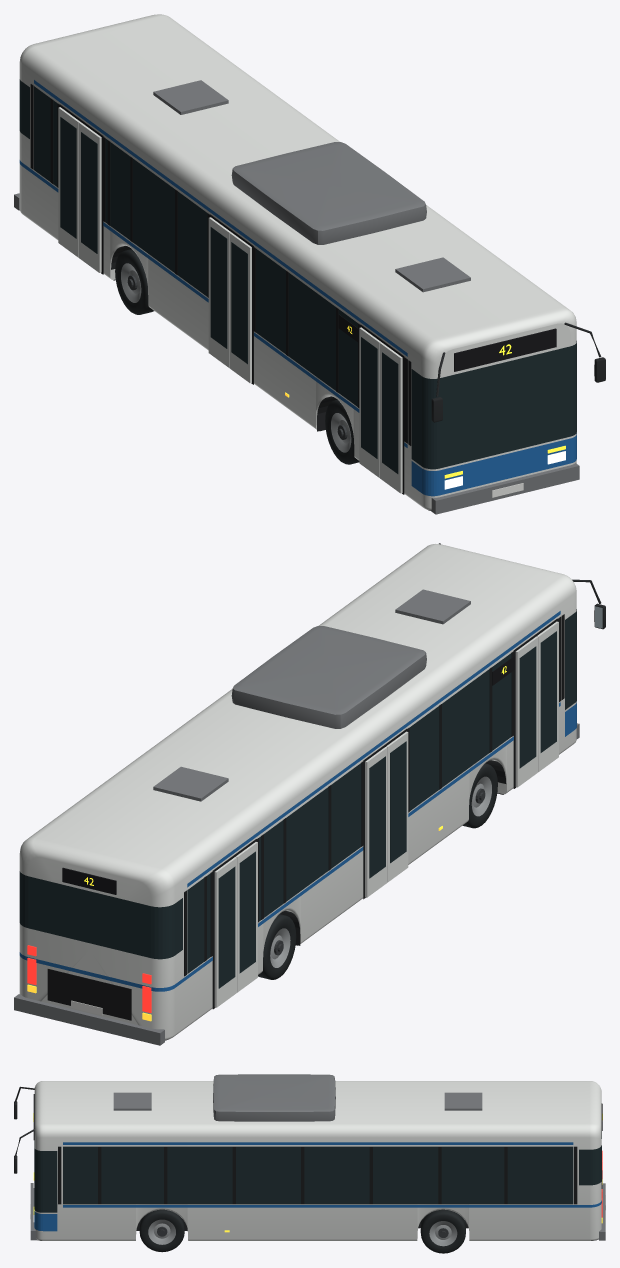
File: PT_Bus_City12.glb
3 renders of one model, top to bottom at view 1: azimuth 30°, elevation 25°; view 2: azimuth 150°, elevation 25°; view 3: azimuth 270°, elevation 25°, orthographic. The views are drawn at different scales.
Parts seen in each view (by area): view 1: Body, Glass_Side, Glass_Windscreen, Roof_AC, Livery_Face, Pillar_R, Roof_Hatches, Bumper_Front, Door_2_B_Glass, Display_Front, Door_2_A_Glass, Door_1_B_Glass (+13 smaller); view 2: Body, Glass_Side, Roof_AC, Glass_Rear, Pillar_R, Roof_Hatches, EngineGrille, Bumper_Rear, Door_1_B_Glass, Door_3_B_Glass, Door_2_A_Glass, Door_2_B_Glass (+14 smaller); view 3: Body, Glass_Side, Roof_AC, Pillar_L, Livery_Stripe, Livery_Roofline, Glass_Windscreen, Roof_Hatches, Wheel_RL_Tyre, Wheel_FL_Tyre, Glass_Rear, Wheel_FL_Rim (+4 smaller).
Part boxes in pixels (box(x1,y1,x2,y2)): Body: box(19, 14, 576, 510); Glass_Side: box(34, 86, 357, 406); Glass_Windscreen: box(411, 341, 576, 469); Roof_AC: box(231, 142, 426, 244); Livery_Face: box(411, 433, 576, 496); Pillar_R: box(30, 84, 411, 445); Roof_Hatches: box(153, 80, 470, 292); Bumper_Front: box(431, 463, 579, 514); Door_2_B_Glass: box(210, 227, 227, 348); Display_Front: box(454, 328, 556, 371); Door_2_A_Glass: box(231, 242, 247, 364); Door_1_B_Glass: box(361, 337, 377, 458); Body: box(19, 544, 576, 1040); Glass_Side: box(187, 653, 511, 973); Roof_AC: box(231, 626, 426, 728); Glass_Rear: box(19, 871, 182, 959); Pillar_R: box(184, 614, 564, 976); Roof_Hatches: box(153, 589, 470, 801); EngineGrille: box(47, 969, 131, 1020); Bumper_Rear: box(14, 994, 164, 1045); Door_1_B_Glass: box(519, 646, 536, 768); Door_3_B_Glass: box(218, 866, 235, 988); Door_2_A_Glass: box(390, 741, 406, 863); Door_2_B_Glass: box(369, 756, 385, 878); Body: box(34, 1081, 601, 1240); Glass_Side: box(63, 1146, 573, 1204); Roof_AC: box(213, 1074, 335, 1121); Pillar_L: box(58, 1146, 577, 1204); Livery_Stripe: box(63, 1200, 601, 1207); Livery_Roofline: box(63, 1142, 573, 1144); Glass_Windscreen: box(34, 1140, 57, 1212); Roof_Hatches: box(113, 1092, 482, 1110); Wheel_RL_Tyre: box(420, 1209, 465, 1253); Wheel_FL_Tyre: box(139, 1209, 184, 1252); Glass_Rear: box(579, 1131, 601, 1185); Wheel_FL_Rim: box(148, 1219, 175, 1244).
Bounding box in the file's own units: 2.88 × 3.19 × 12.53.
